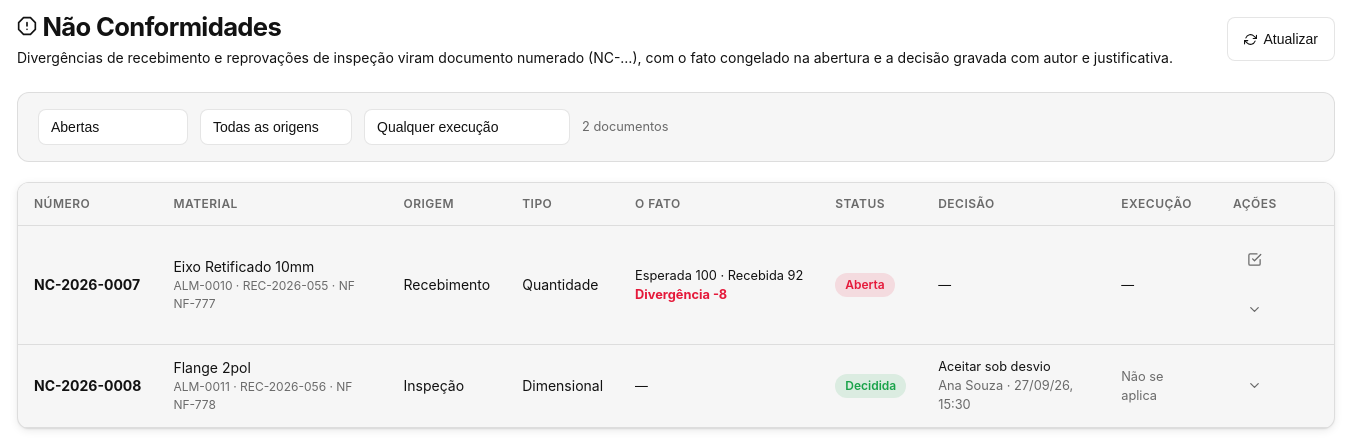
Test case: NaoConformidadesAlmoxarifado — falha de carga › (12) falha mostra o painel de erro e NÃO deixa a lista velha na tela
Click the button "Atualizar".
click(1281, 40)  # box [1226,18,1335,62]
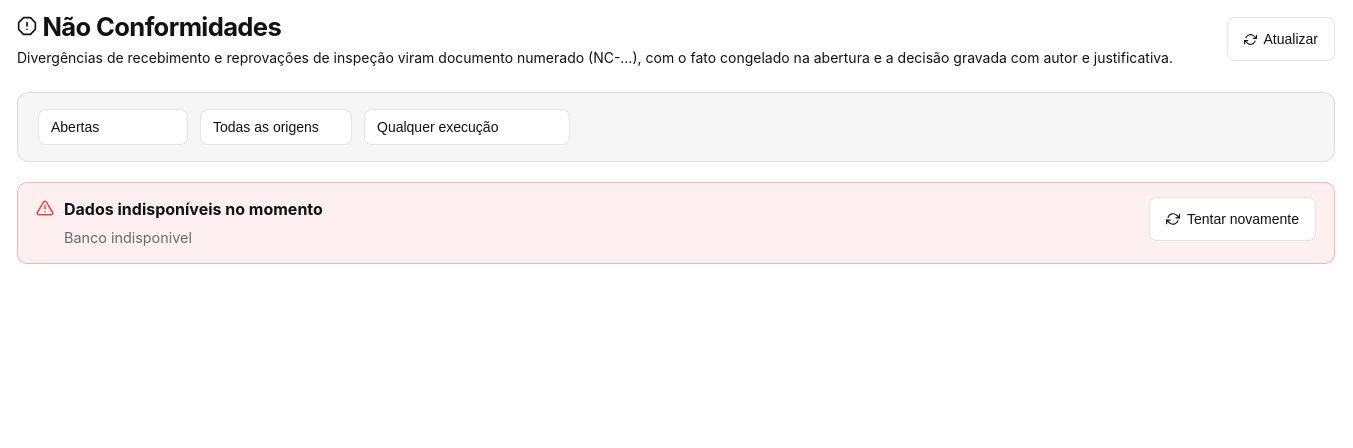
expect the text "NC-2026-0007" is gone: met
expect the element with test id "nc-erro-carga" is shown: met, box [17,182,1335,264]
expect the text "Banco indisponivel" is shown: met, box [64,229,192,246]
